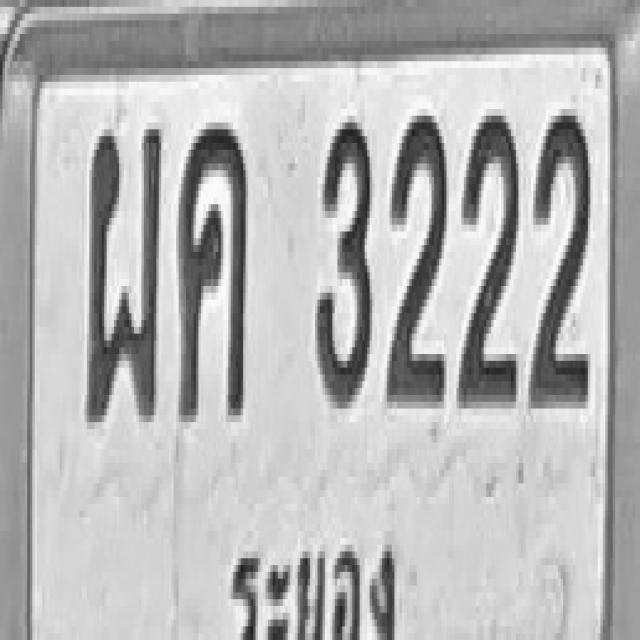13KhorKhwai: (177, 119, 247, 419)
2: (528, 109, 590, 402), (456, 109, 518, 402), (387, 109, 446, 402)
3: (315, 115, 372, 408)
37PhorPhueng: (85, 123, 162, 422)
Rayong: (226, 510, 408, 640)
